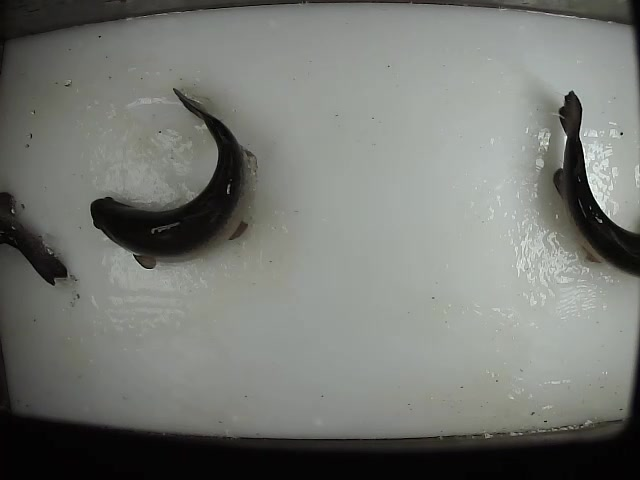fish: (88, 84, 262, 272), (550, 88, 640, 281)
